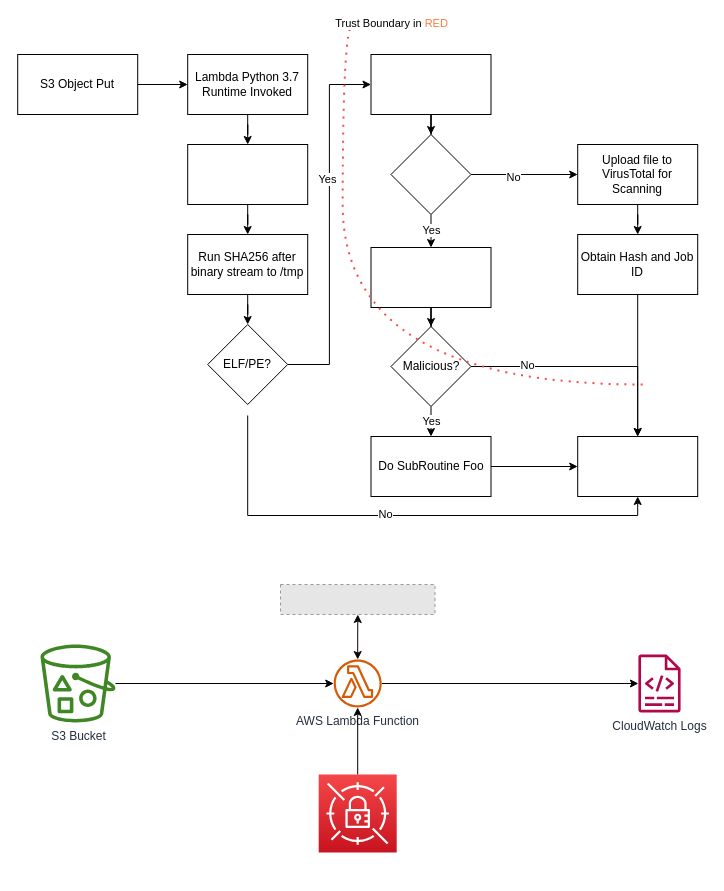
This 724x891 diagram has some shape labels left out. Grey dashed boxes stand in for pictures. Here are the shapes that lost their labels. From the top down, the centre of each, then its label:
[430,84]: Check hash to VirusTotal via API Client
[247,174]: Stream S3 Object to Lambda /tmp location
[430,174]: Known Hash?
[430,277]: Evaluate Last Scan Result
[637,466]: Write to Logs
[357,813]: AWS Secrets Manager
